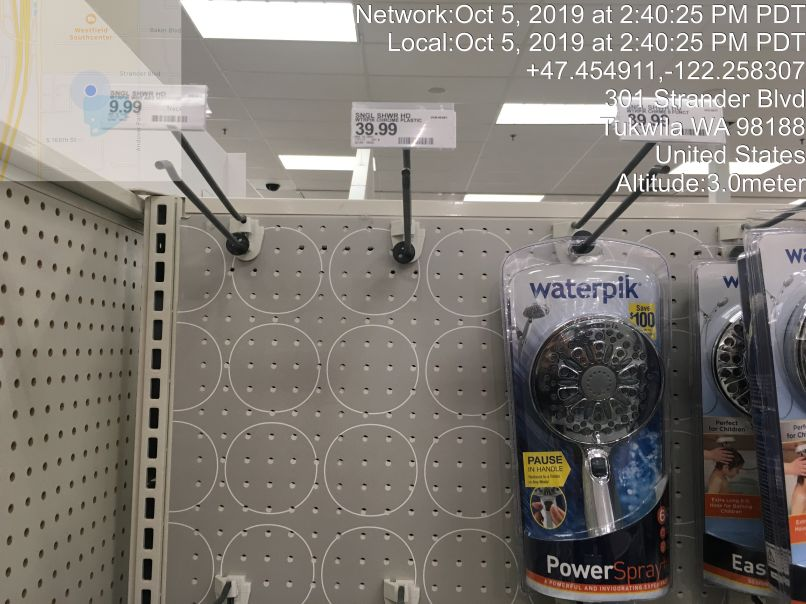Label: (350, 98, 464, 151)
Location: (588, 83, 806, 169)
Sngl Shwr Hd: (498, 224, 690, 604)
Time: (348, 3, 806, 59)
Void: (310, 233, 492, 599), (130, 220, 301, 591)
